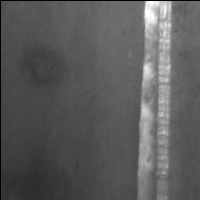scratches: (132, 2, 176, 200)
